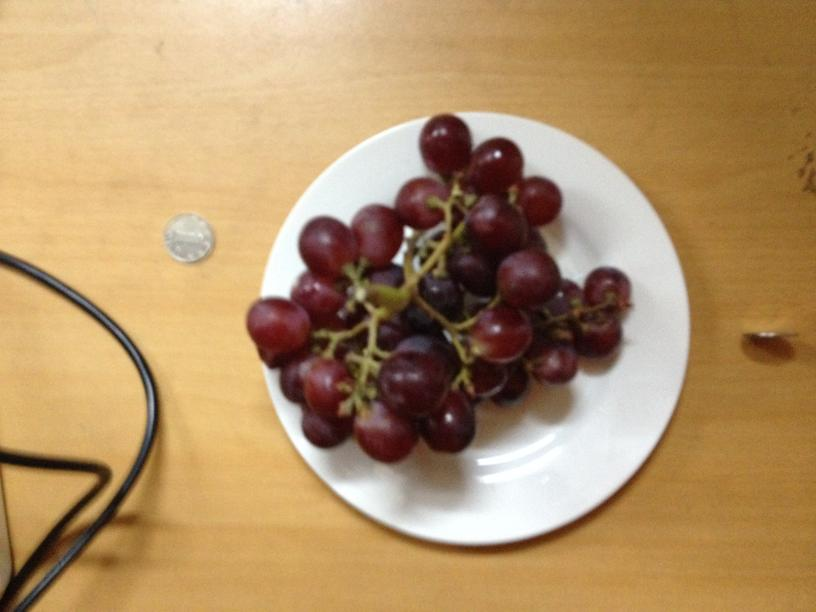coin: (163, 214, 214, 264)
grape: (259, 111, 626, 459)
